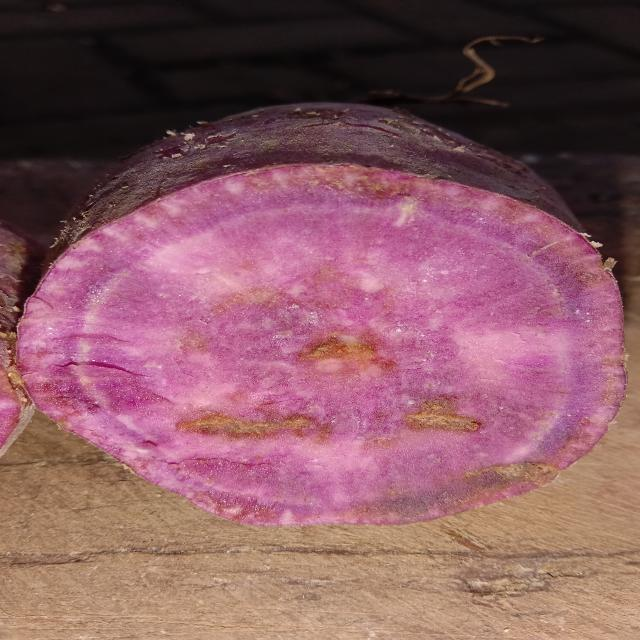Sick Sweet Potato_Tuber Rot: (18, 165, 624, 525)
